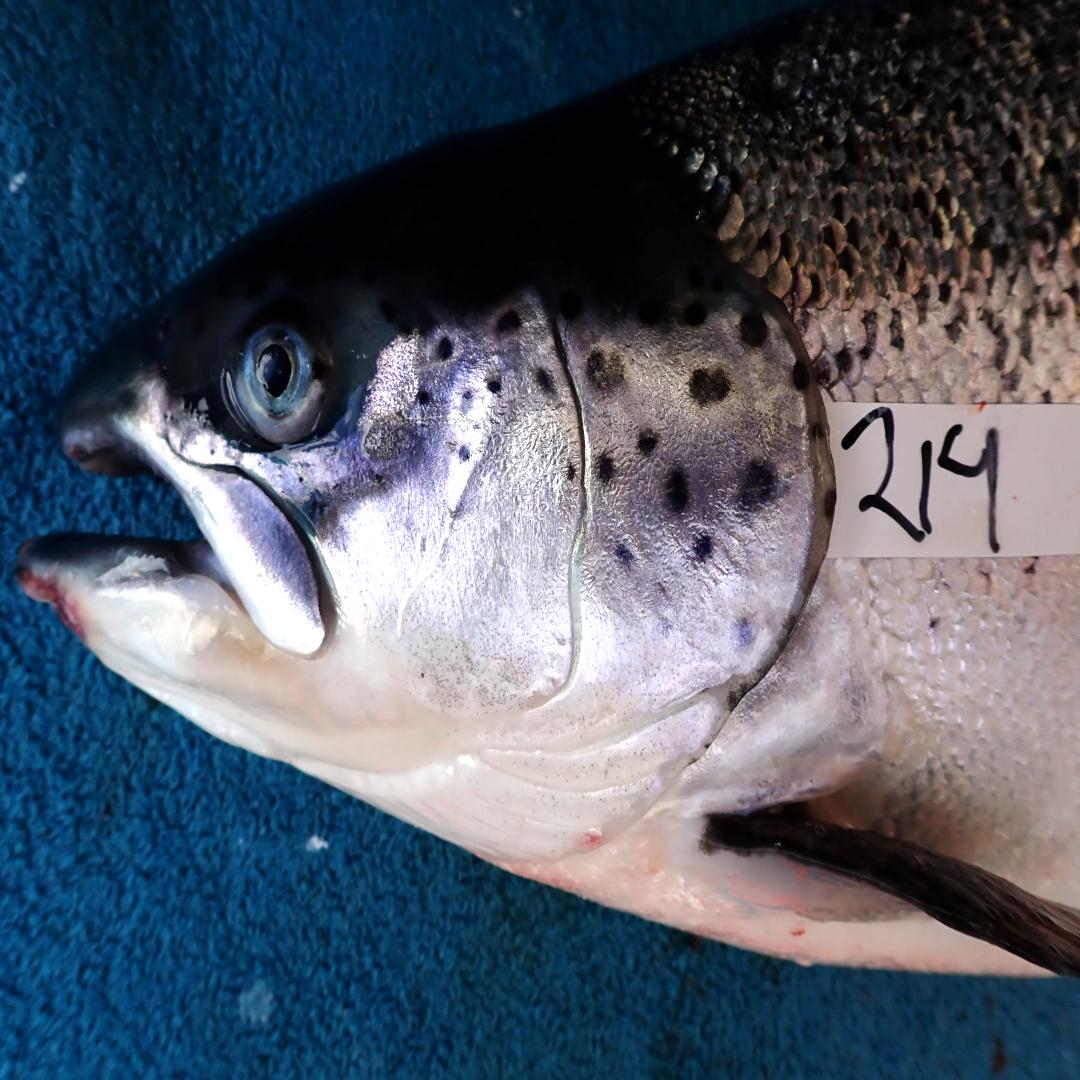roi: (316, 294, 827, 875)
